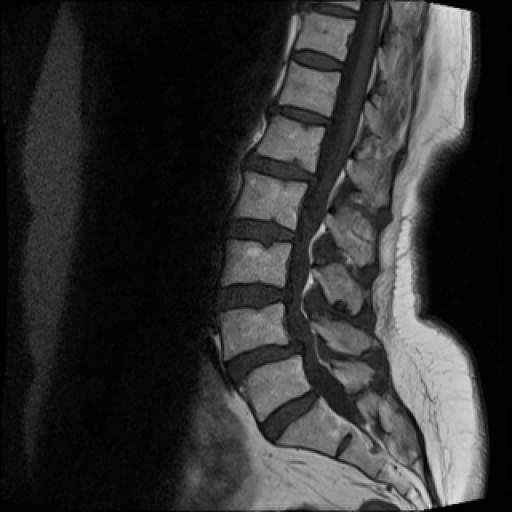L1: (258, 116, 324, 172)
L2: (233, 171, 307, 230)
L3: (222, 241, 290, 286)
L4: (222, 306, 286, 360)
L5: (239, 355, 311, 420)
S1: (277, 398, 352, 456)
